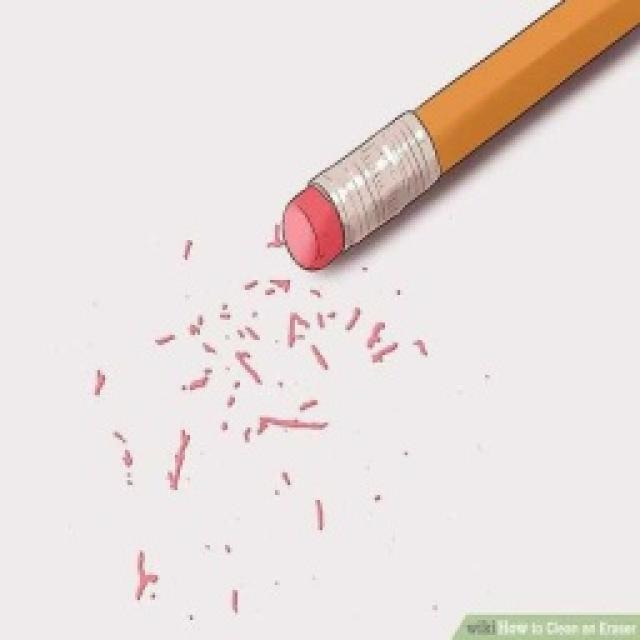Silgi: (282, 186, 344, 272)
